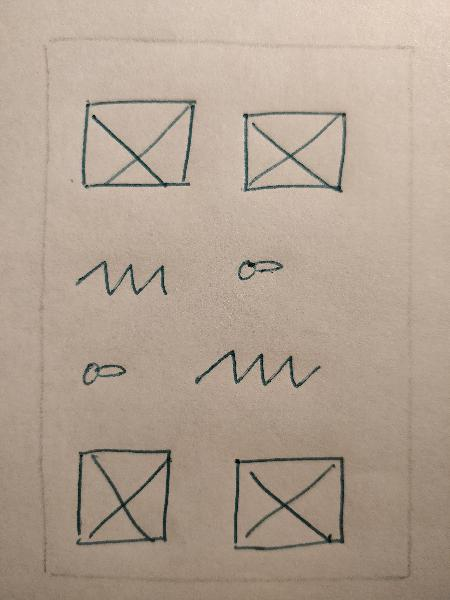image: (222, 444, 353, 556), (72, 89, 208, 195), (233, 99, 358, 203), (67, 441, 180, 553)
switch: (219, 248, 299, 289), (68, 354, 147, 394)
text: (188, 338, 333, 399), (66, 251, 180, 311)
